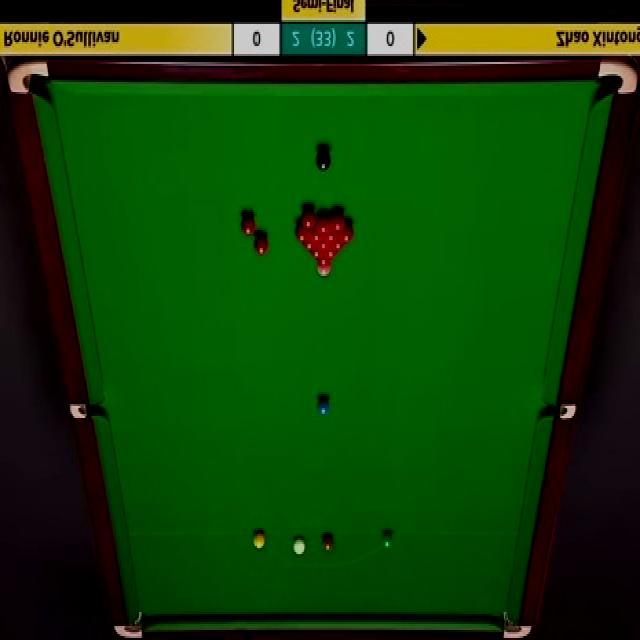black-ball: (314, 149, 330, 173)
blue-ball: (316, 398, 331, 415)
brown-ball: (318, 531, 329, 549)
green-ball: (380, 530, 395, 552)
pink-ball: (317, 262, 332, 276)
red-ball: (253, 230, 270, 257), (298, 207, 316, 230), (316, 213, 331, 235), (337, 222, 352, 244), (240, 214, 255, 236), (295, 221, 308, 243), (331, 210, 345, 230), (325, 221, 338, 242), (304, 239, 315, 251), (318, 238, 329, 250), (318, 253, 328, 265)
white-ball: (294, 538, 306, 555)
yellow-ball: (253, 530, 265, 550)
